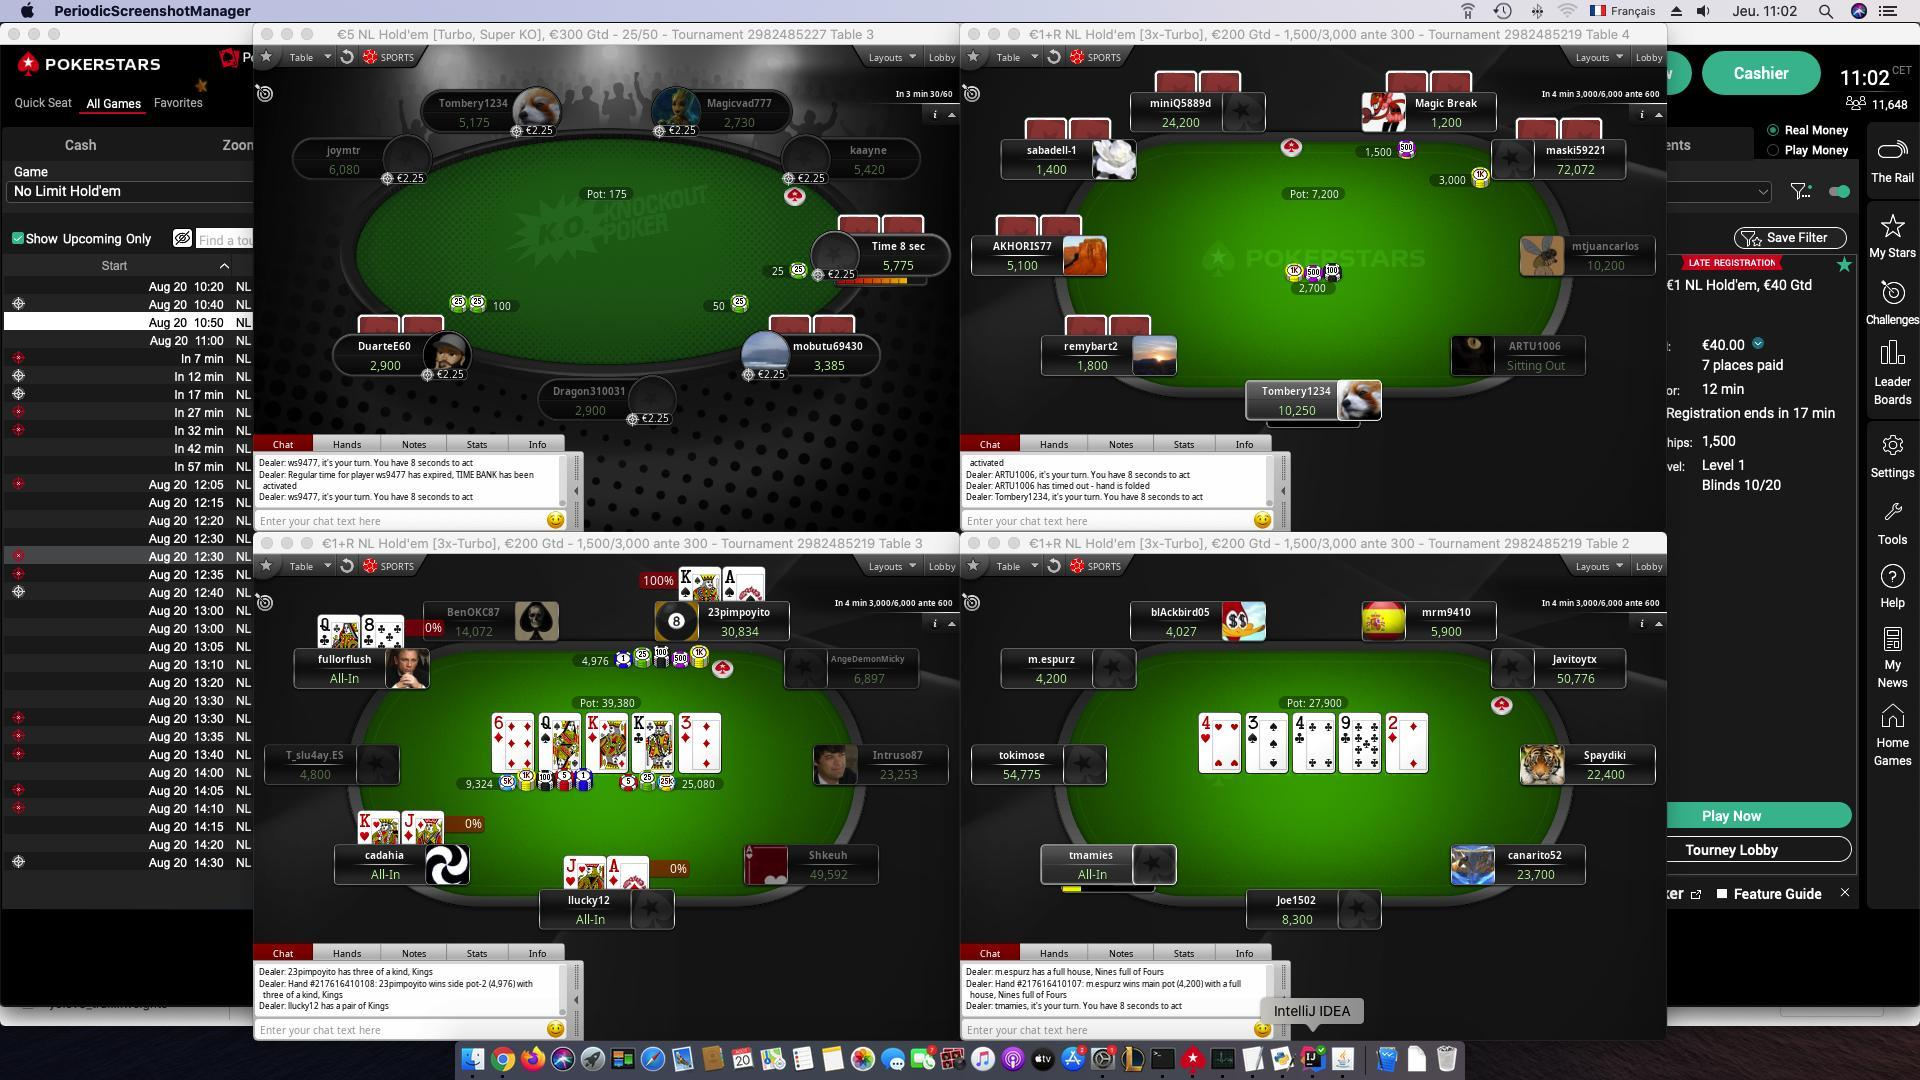2D: (1385, 709, 1399, 744)
3D: (680, 709, 692, 742)
3S: (1244, 712, 1261, 744)
4C: (1294, 713, 1309, 748)
4H: (1196, 711, 1215, 745)
6D: (487, 709, 506, 744)
8C: (357, 612, 378, 644)
9C: (1337, 712, 1352, 745)
AD: (605, 857, 622, 887)
AS: (717, 568, 738, 603)
JD: (398, 811, 417, 840)
JH: (562, 855, 582, 887)
KC: (630, 713, 644, 744)
KD: (585, 711, 603, 741)
KH: (353, 812, 375, 837)
KS: (675, 567, 694, 597)
QC: (315, 615, 335, 644)
QS: (534, 709, 553, 742)
